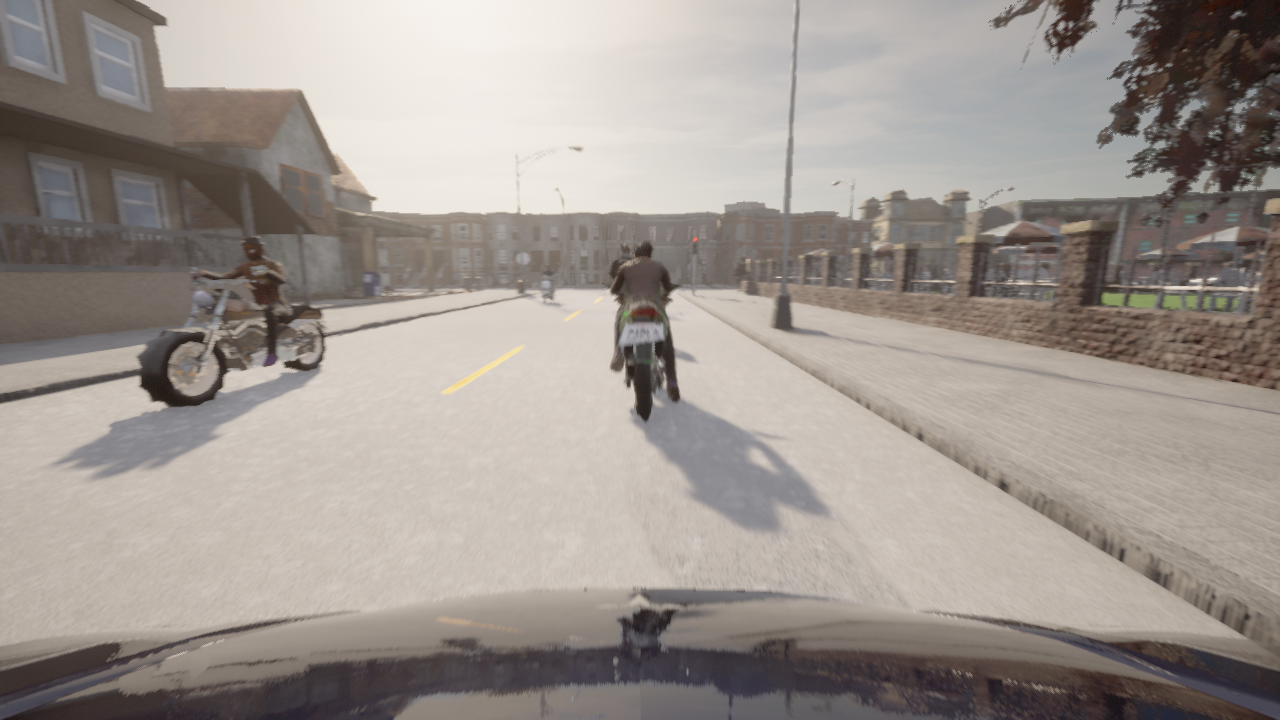cyclist: (0, 588, 1279, 719), (137, 265, 327, 407), (603, 284, 682, 420), (536, 273, 556, 303), (508, 273, 540, 289)
pedestrian: (734, 262, 745, 292), (696, 272, 699, 285)
